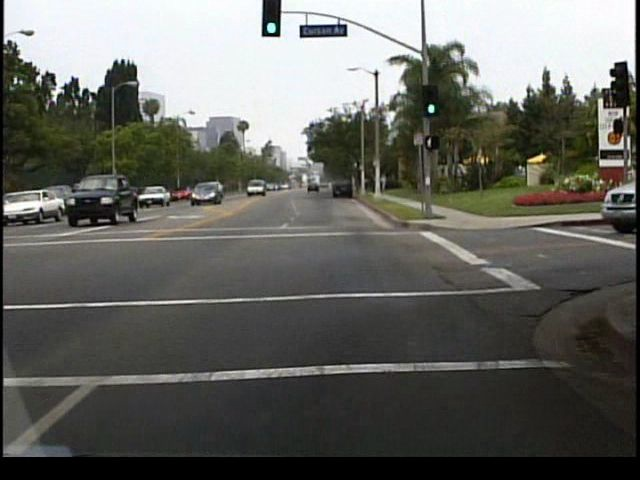person: (371, 176, 380, 199), (379, 172, 388, 193)
